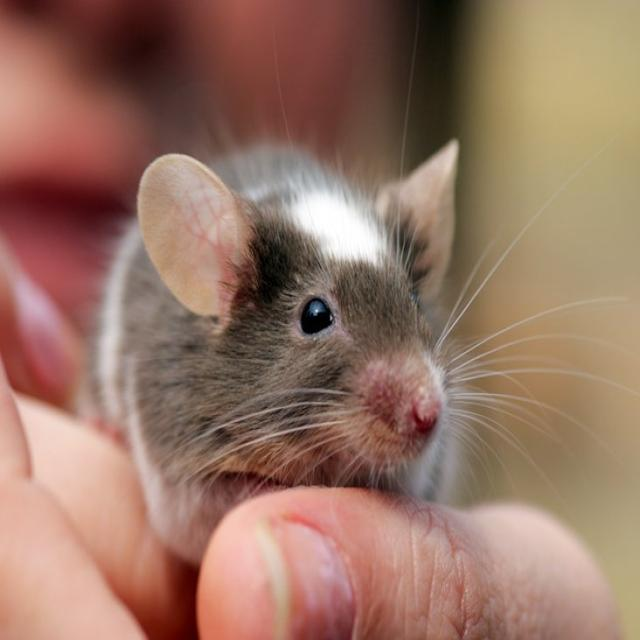Mouse: (97, 128, 464, 520)
